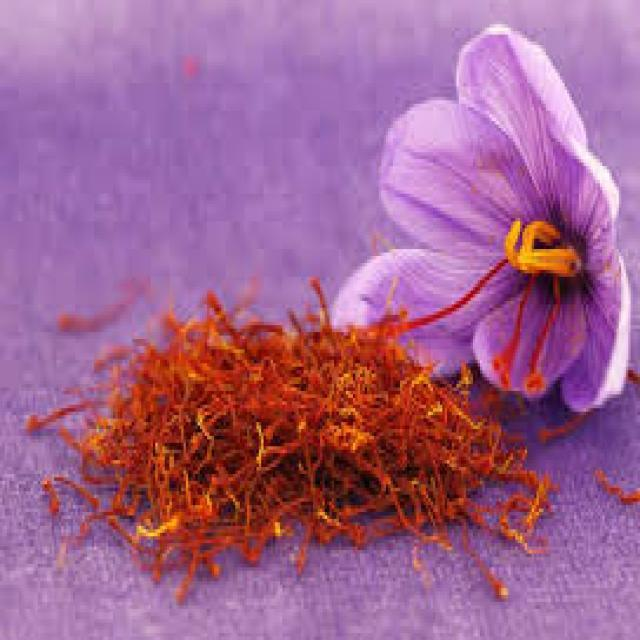Flower: (334, 13, 636, 418)
stigma: (376, 252, 500, 335), (527, 283, 569, 392), (497, 282, 535, 383)
